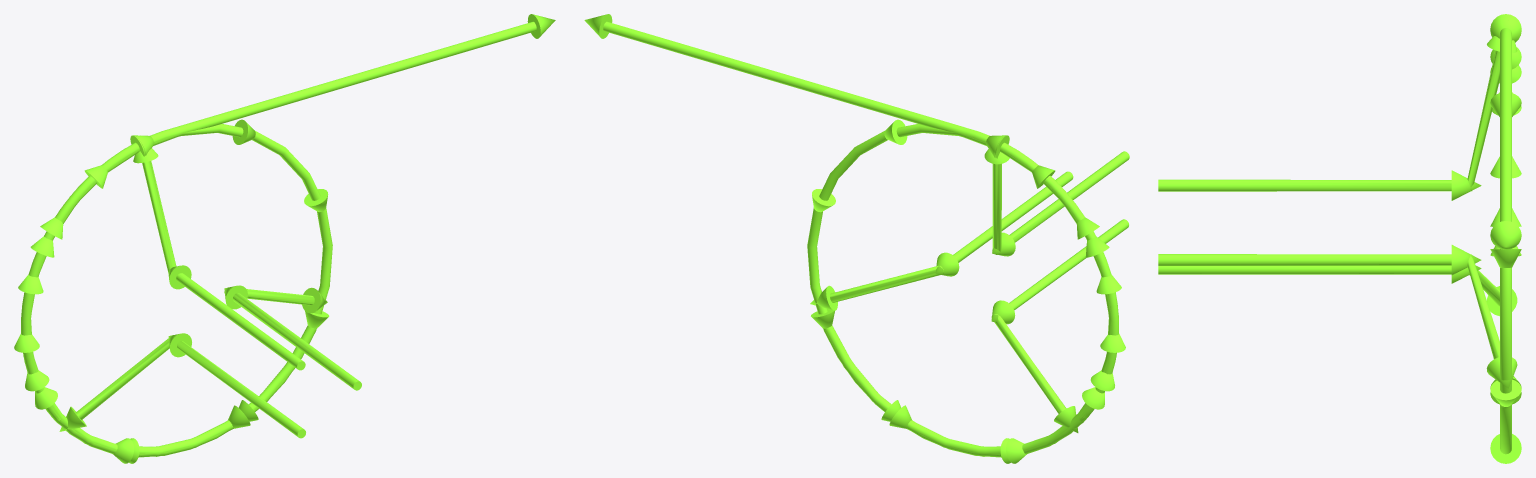
File: centrifugal_fan_flow.glb
3 renders of one model, left to right at view 1: azimuth 30°, elevation 25°; view 2: azimuth 150°, elevation 25°; view 3: azimuth 270°, elevation 25°, orthographic. The views are drawn at different scales.
Visible parts, largest first — view 1: air_1, air_0, air_2; view 2: air_1, air_0, air_2; view 3: air_1, air_0, air_2.
Part boxes in pixels (x1,y1,x2,y2): air_1: (18, 22, 536, 463); air_0: (21, 14, 555, 463); air_2: (14, 22, 536, 438); air_1: (603, 22, 1129, 463); air_0: (584, 14, 1118, 463); air_2: (603, 22, 1128, 432); air_1: (1158, 20, 1521, 452); air_0: (1158, 15, 1521, 463); air_2: (1158, 14, 1521, 316).
Bounding box in the file's own units: 1.25 × 0.7752 × 0.601.
